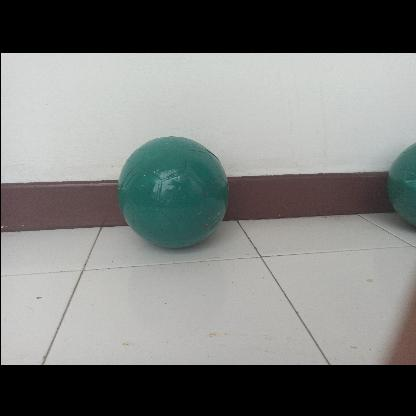green_ball: (116, 131, 230, 245)
